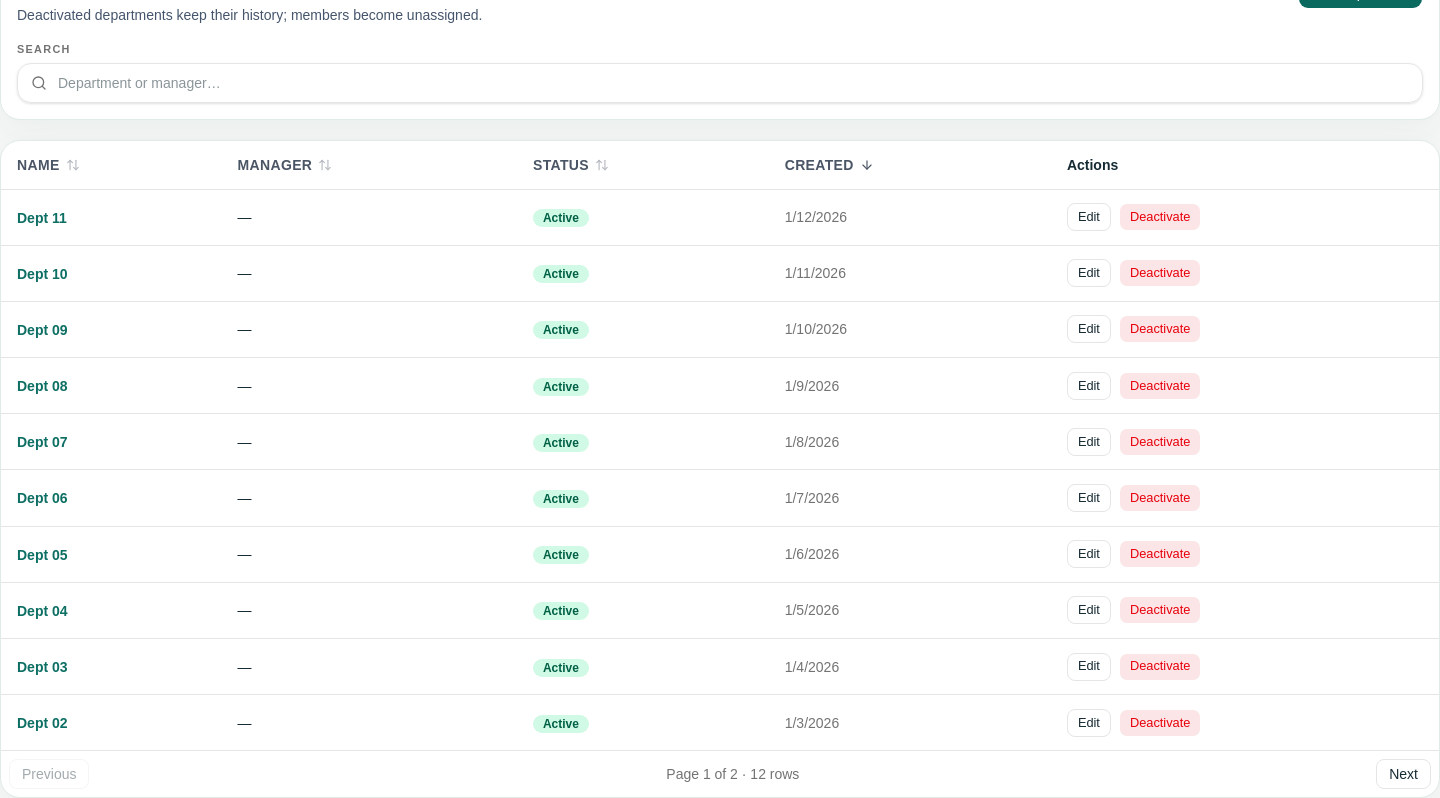
Test: DepartmentsPage › paginates long lists client-side
(page scrolled)
Expected: the text "Page 1 of 2 · 12 rows" is shown, x1=666 y1=764 x2=799 y2=784
Click the button "Next": (1404,774) x1=1376 y1=759 x2=1431 y2=789
(page scrolled)
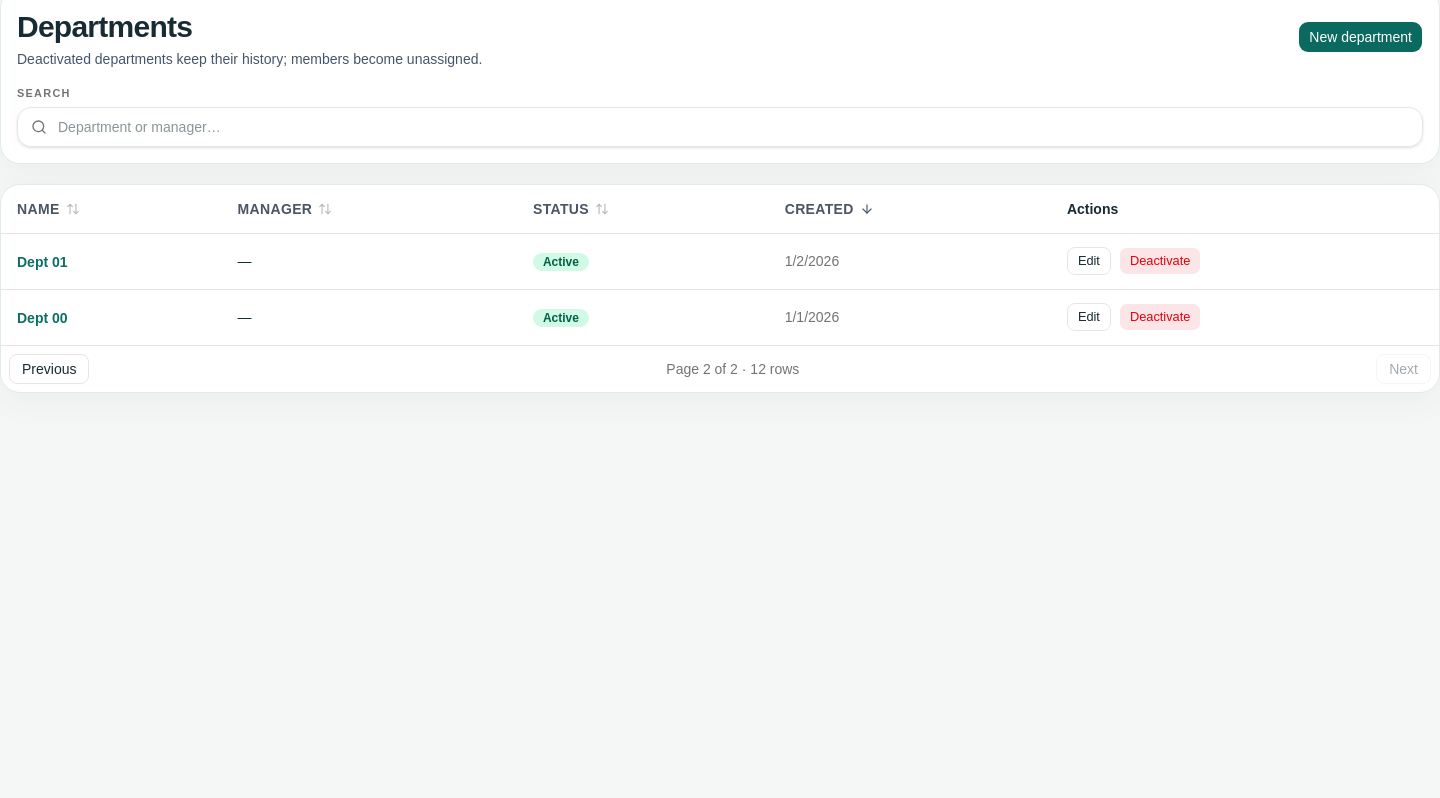
Expected: the number of rows is 3, x1=1 y1=185 x2=1439 y2=233; x1=1 y1=233 x2=1439 y2=289; x1=1 y1=289 x2=1439 y2=345
Result: the text "Page 2 of 2 · 12 rows" is shown at x1=666 y1=359 x2=799 y2=379
Result: the button "Next" is disabled at x1=1376 y1=354 x2=1431 y2=384
